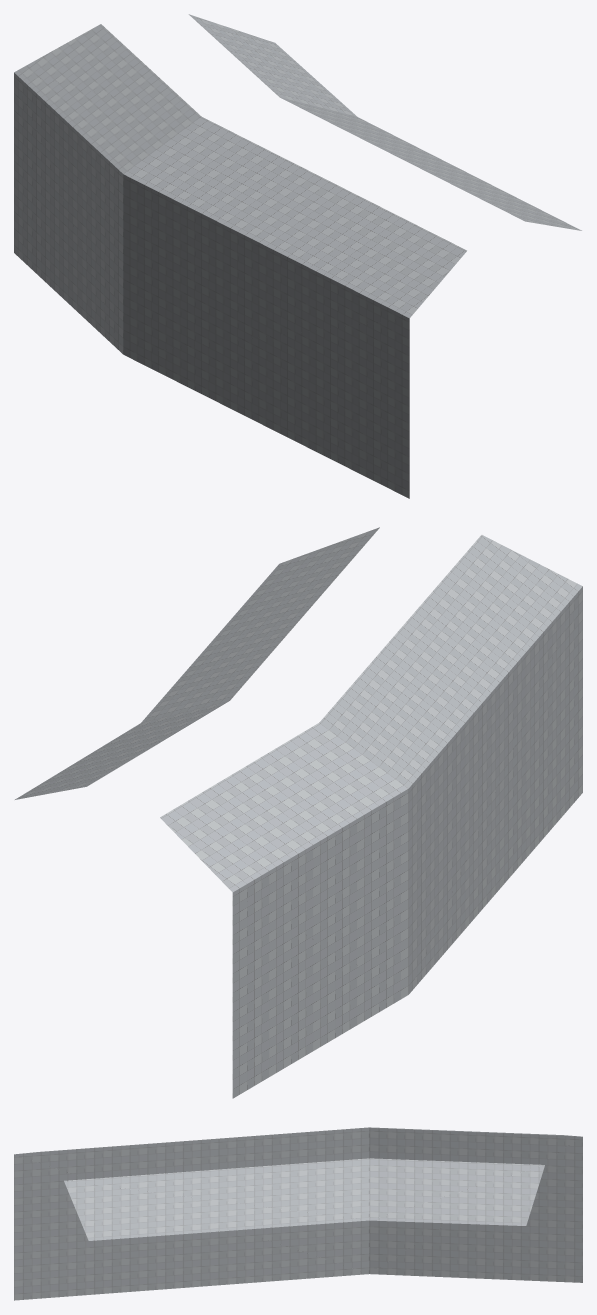
The model's file is kd_stage_135ebf_2_15.glb.
3 views of the same model, one above another, from view 1: azimuth 30°, elevation 25°; view 2: azimuth 150°, elevation 25°; view 3: azimuth 270°, elevation 25° (orthographic). The views are drawn at different scales.
Parts seen in each view (by area): view 1: kd_stage_135ebf_2_15; view 2: kd_stage_135ebf_2_15; view 3: kd_stage_135ebf_2_15.
Part boxes in pixels (x1,y1,x2,y2): kd_stage_135ebf_2_15: (14,14,581,498); kd_stage_135ebf_2_15: (15,527,582,1098); kd_stage_135ebf_2_15: (14,1127,582,1300).
Size of the model in its own units: 11.62 by 8.5 by 24.68.
1 material, 1 textured.
